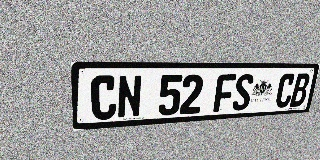2: (180, 74, 204, 114)
5: (158, 75, 183, 116)
B: (289, 73, 311, 107)
C: (91, 75, 117, 120), (274, 73, 296, 108)
F: (213, 74, 236, 112)
N: (117, 75, 142, 119)
S: (231, 74, 255, 111)
